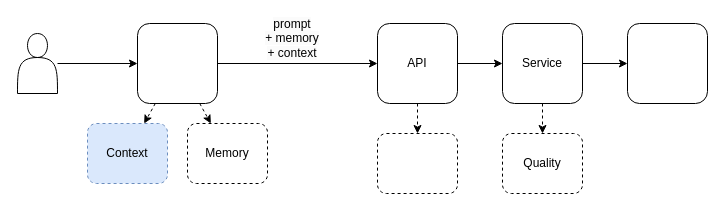
This 725x211 diagram has some shape labels left out. Each missing label, with the centre of its shape:
"Auth" goes at point (417, 163).
"LLM" goes at point (667, 63).
"User Agent" goes at point (177, 63).
